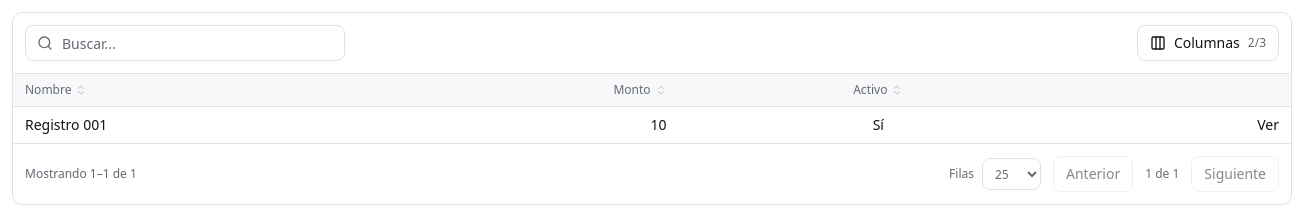
Scenario: DataTable › API pública › no permite ocultar la columna de acciones
Click the button "Columnas 2/3" at (1208, 43), box top-left (1137, 25), bottom-right (1279, 61)
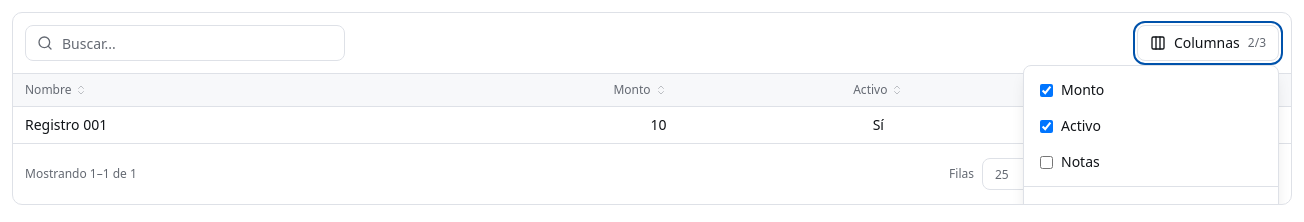
Expected: the button "Ver" is shown, top-left (1257, 115), bottom-right (1279, 135)
Expected: the number of checkboxes is 3, top-left (1040, 84), bottom-right (1053, 96); top-left (1040, 120), bottom-right (1053, 132); top-left (1040, 156), bottom-right (1053, 168)
